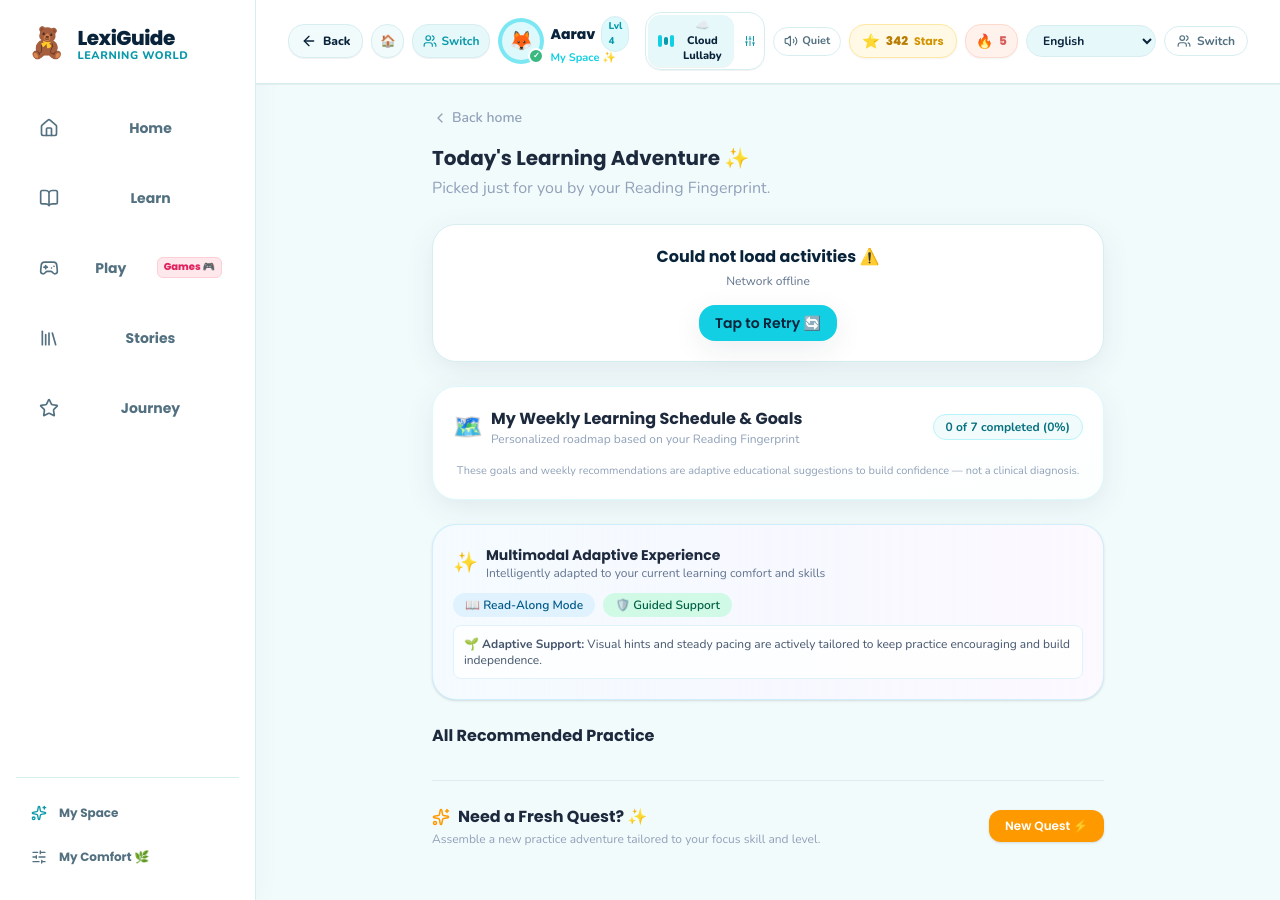
Connected Learning Platform — Page Data Flow & Integration › 14. MyPractice displays retry card on error and re-fetches
Expected: the text "Could not load activities ⚠️" is shown, x1=656 y1=244 x2=879 y2=268
Click the button "Tap to Retry 🔄" at (768, 322), box x1=699 y1=304 x2=837 y2=340
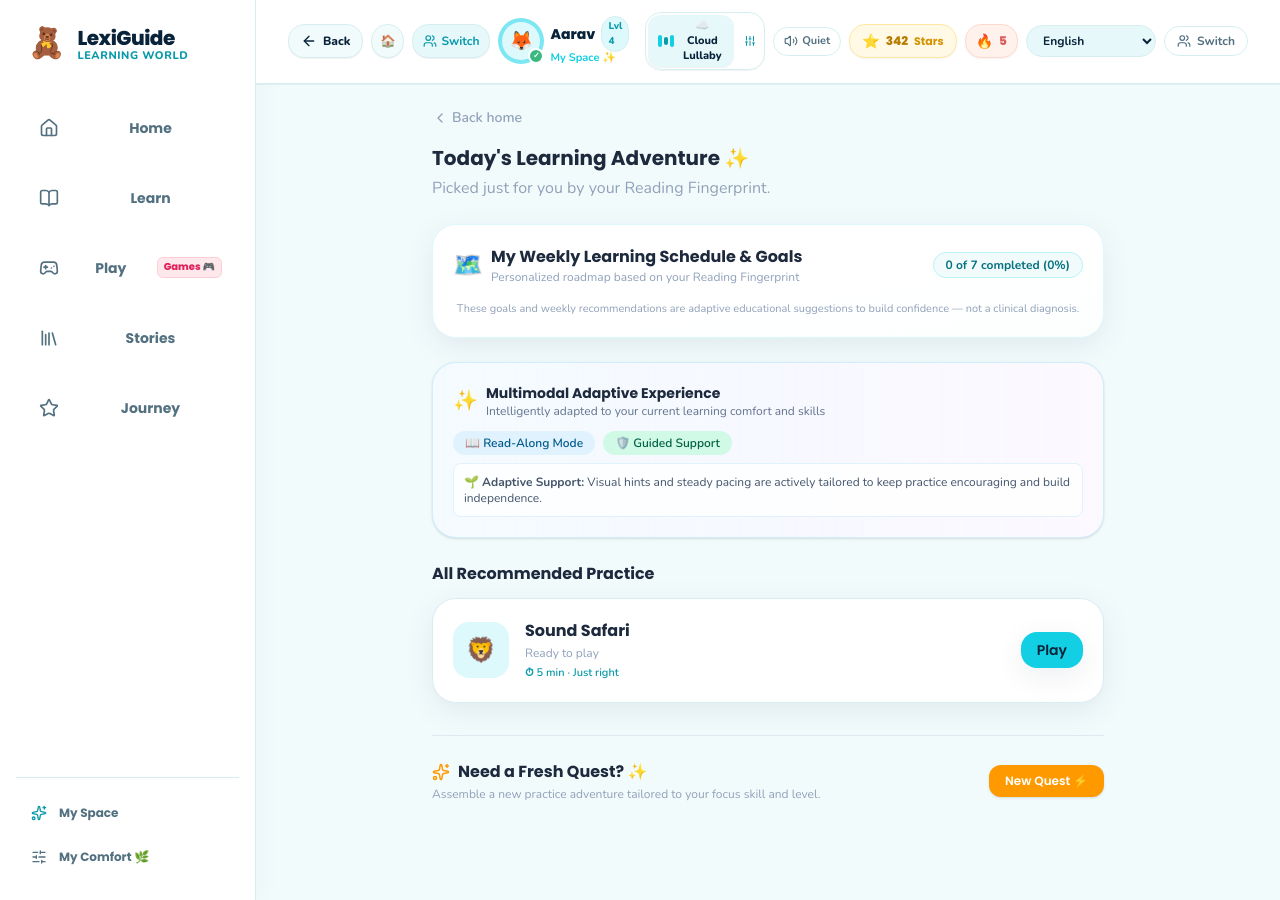
Result: the text "Sound Safari" is shown at x1=525 y1=619 x2=630 y2=642
